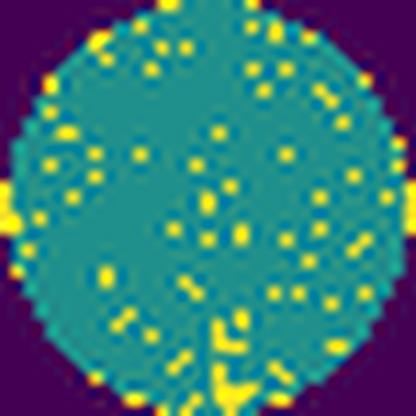Loc: (211, 362, 258, 416), (212, 316, 246, 353)
